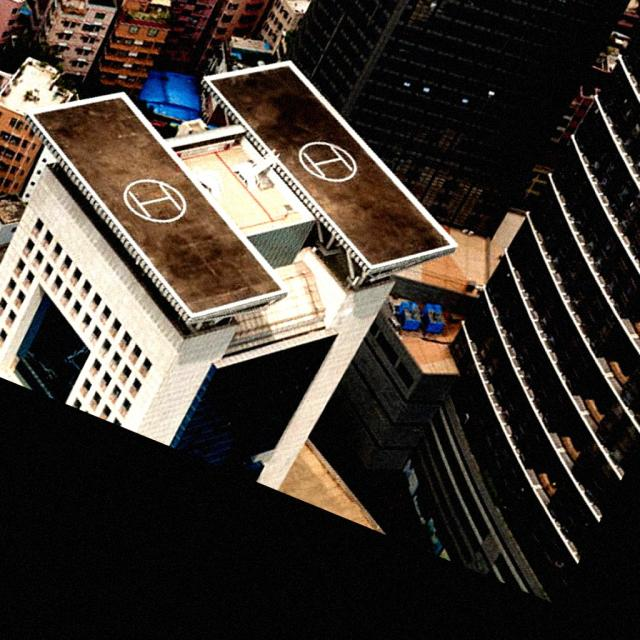helipad: (119, 176, 189, 226), (294, 138, 359, 182)
